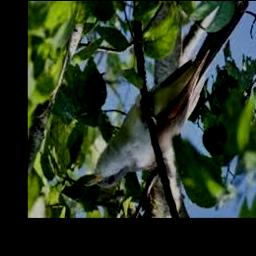Cuckoo: (85, 1, 250, 189)
